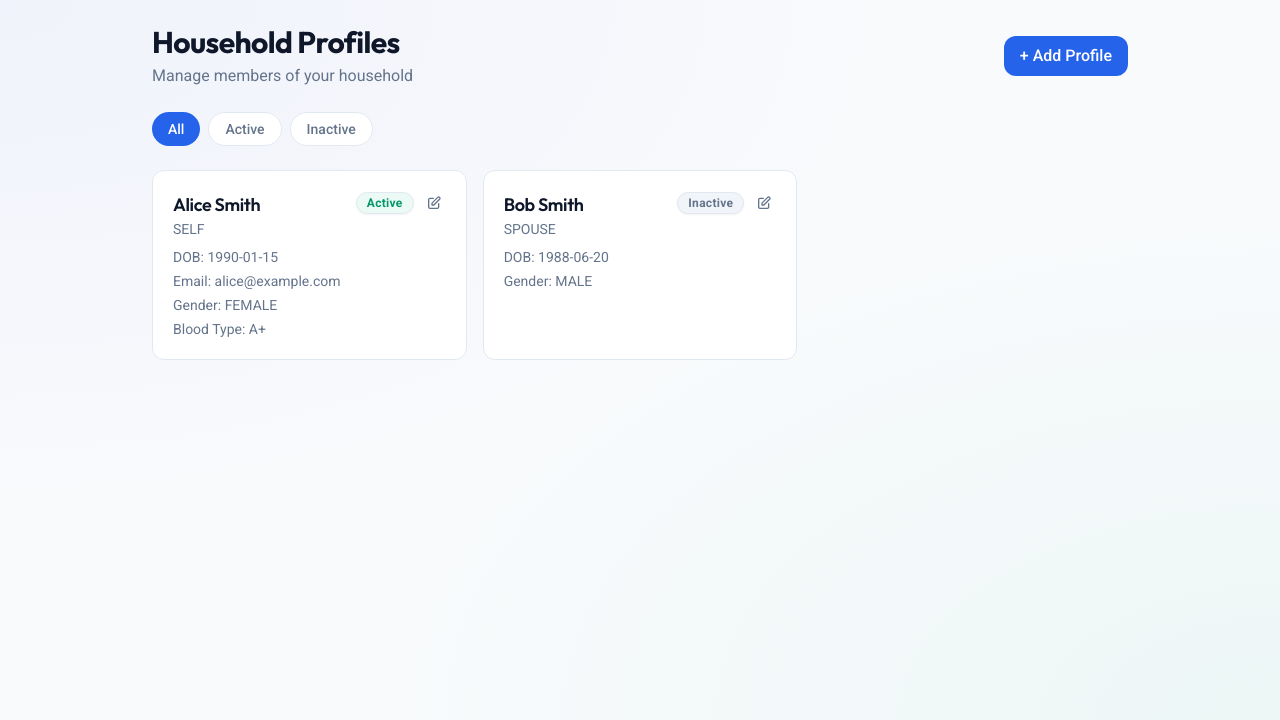
Scenario: Profiles page › Edit button opens edit modal with profile data
Expected: the heading "Alice Smith" is shown, [173,191,260,219]
Click the button named "Edit profile" in the row of "Alice Smith" at (434, 203), box [422,191,446,215]
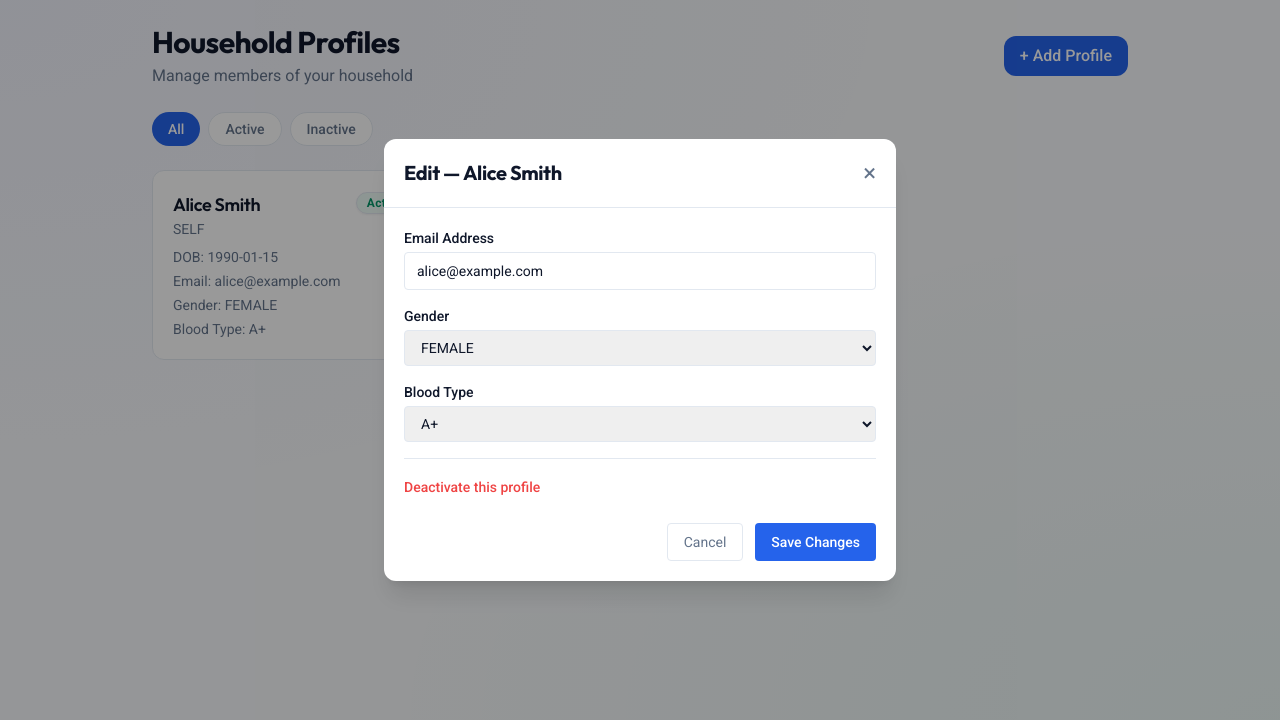
Now the heading "Edit — Alice Smith" is shown, box [404,159,562,187]
